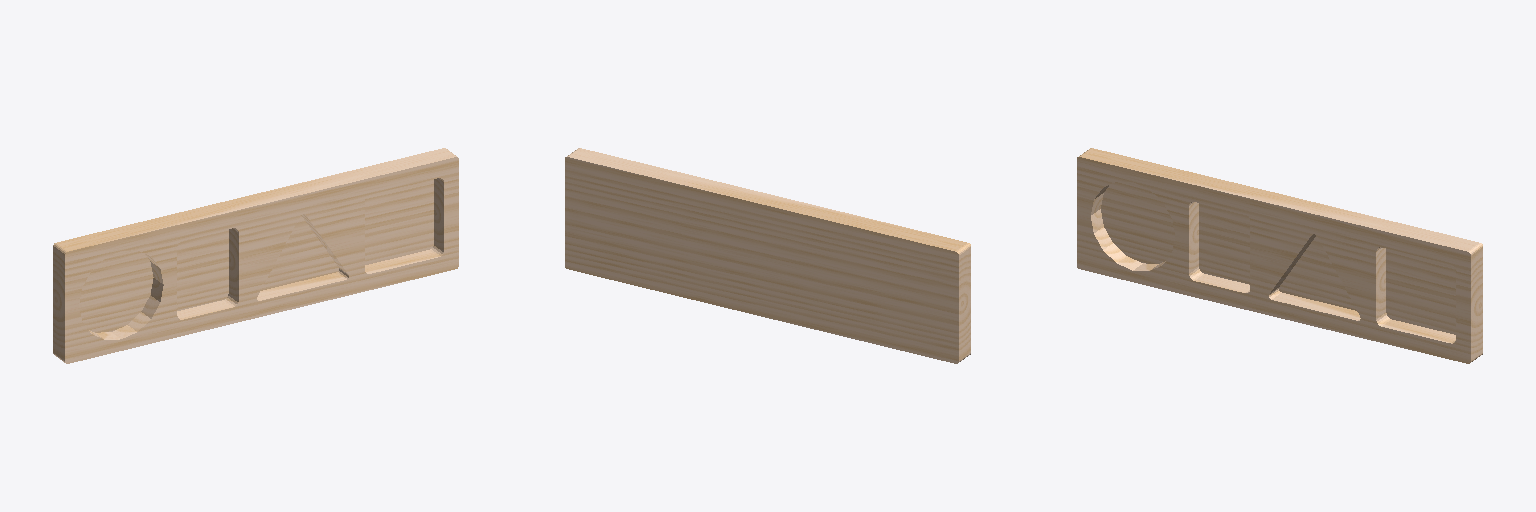
3 renders of one model, left to right at view 1: azimuth 30°, elevation 25°; view 2: azimuth 150°, elevation 25°; view 3: azimuth 330°, elevation 25°, orthographic.
Parts seen in each view (by area): view 1: toy03.001; view 2: toy03.001; view 3: toy03.001.
Boxes of the visible parts, x1=… form: toy03.001: x1=53, y1=148, x2=458, y2=363; toy03.001: x1=565, y1=148, x2=970, y2=363; toy03.001: x1=1077, y1=148, x2=1482, y2=363.
Size of the model in its own units: 11.3 by 3.07 by 0.6115.
1 materials, 1 textured.